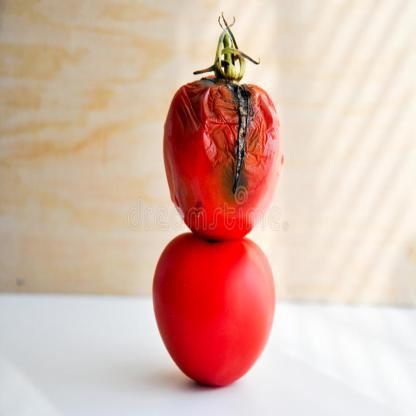tomato_rotten: (164, 71, 286, 248)
